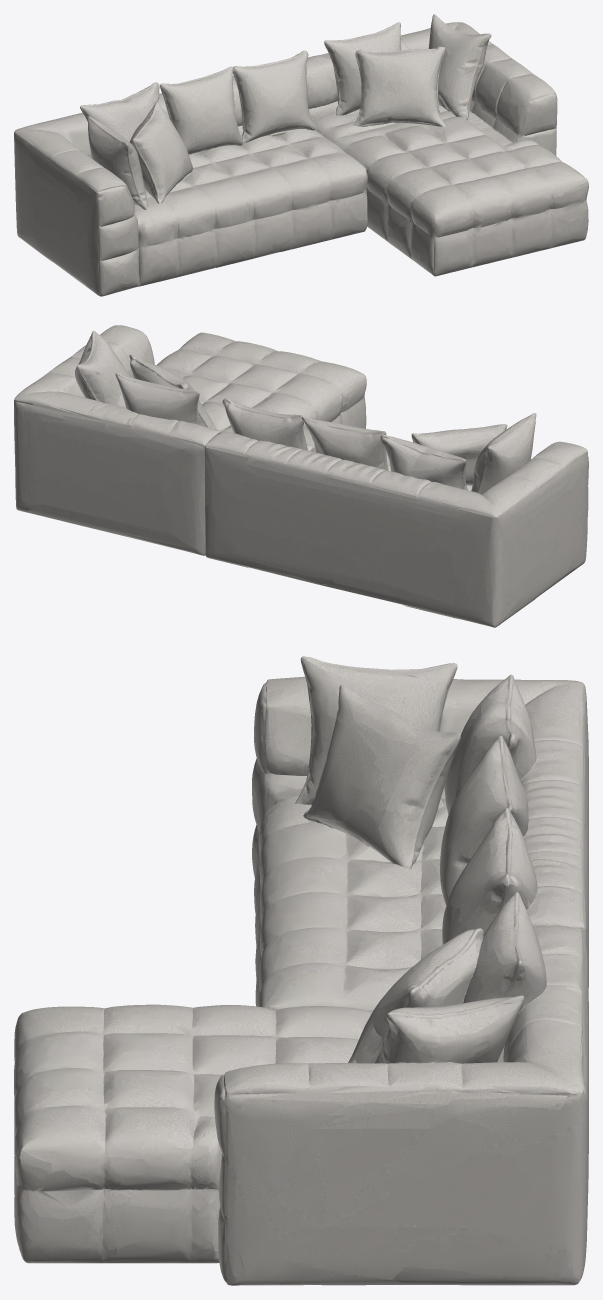
Rendered from caravanafurniture-com-products-ivory-modular-sectional-sofa--5c2e3a.glb.
The picture shows the model from 3 angles, top to bottom: view 1: azimuth 30°, elevation 25°; view 2: azimuth 150°, elevation 25°; view 3: azimuth 270°, elevation 25°; orthographic projection. The views are drawn at different scales.
Visible parts, largest first — view 1: Mesh_0; view 2: Mesh_0; view 3: Mesh_0.
Part boxes in pixels (x1,y1,x2,y2): Mesh_0: (14, 14, 588, 296); Mesh_0: (14, 325, 588, 627); Mesh_0: (14, 656, 588, 1285).
Size of the model in its own units: 1.9 by 0.5642 by 1.11.
Materials: 1 (1 with a texture image).
